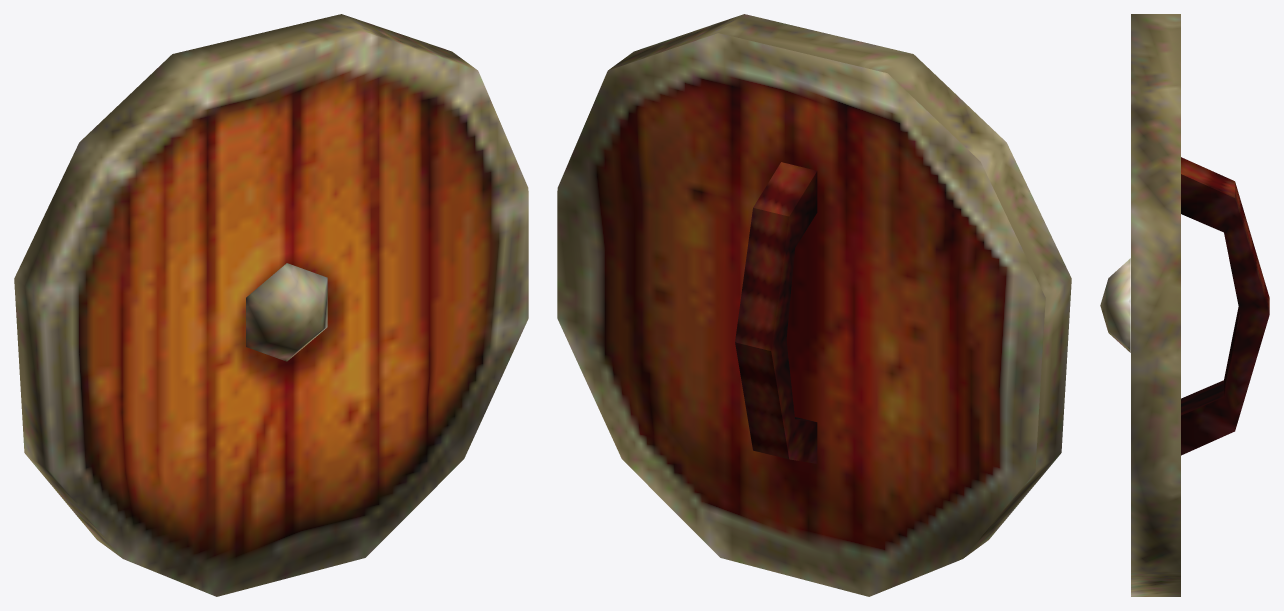
File: Shield.fbx
3 views of the same model, side by side, from view 1: azimuth 30°, elevation 25°; view 2: azimuth 150°, elevation 25°; view 3: azimuth 270°, elevation 25° (orthographic). The views are drawn at different scales.
Parts seen in each view (by area): view 1: shield1; view 2: shield1; view 3: shield1.
Part boxes in pixels (bbox=[...]): shield1: bbox=[14, 14, 528, 596]; shield1: bbox=[557, 14, 1071, 596]; shield1: bbox=[1100, 14, 1269, 596].
Size of the model in its own units: 1.31 by 1.36 by 0.4103.
